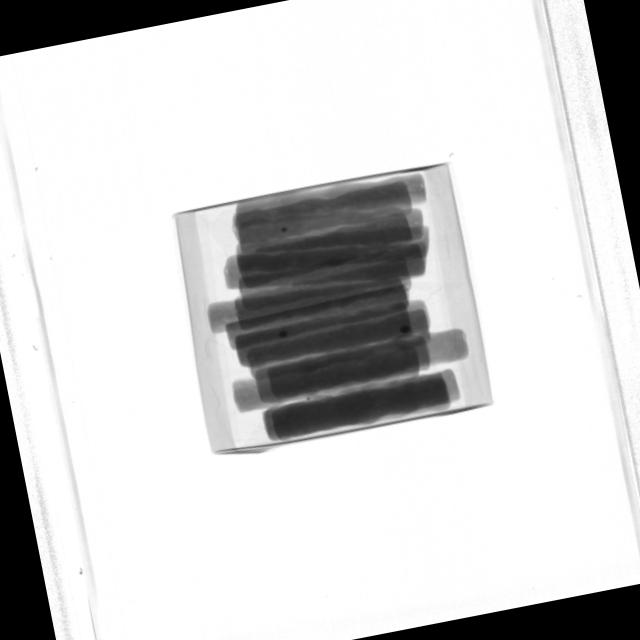ym: (399, 325, 413, 336), (279, 331, 288, 338), (282, 228, 288, 234), (305, 397, 311, 402)
